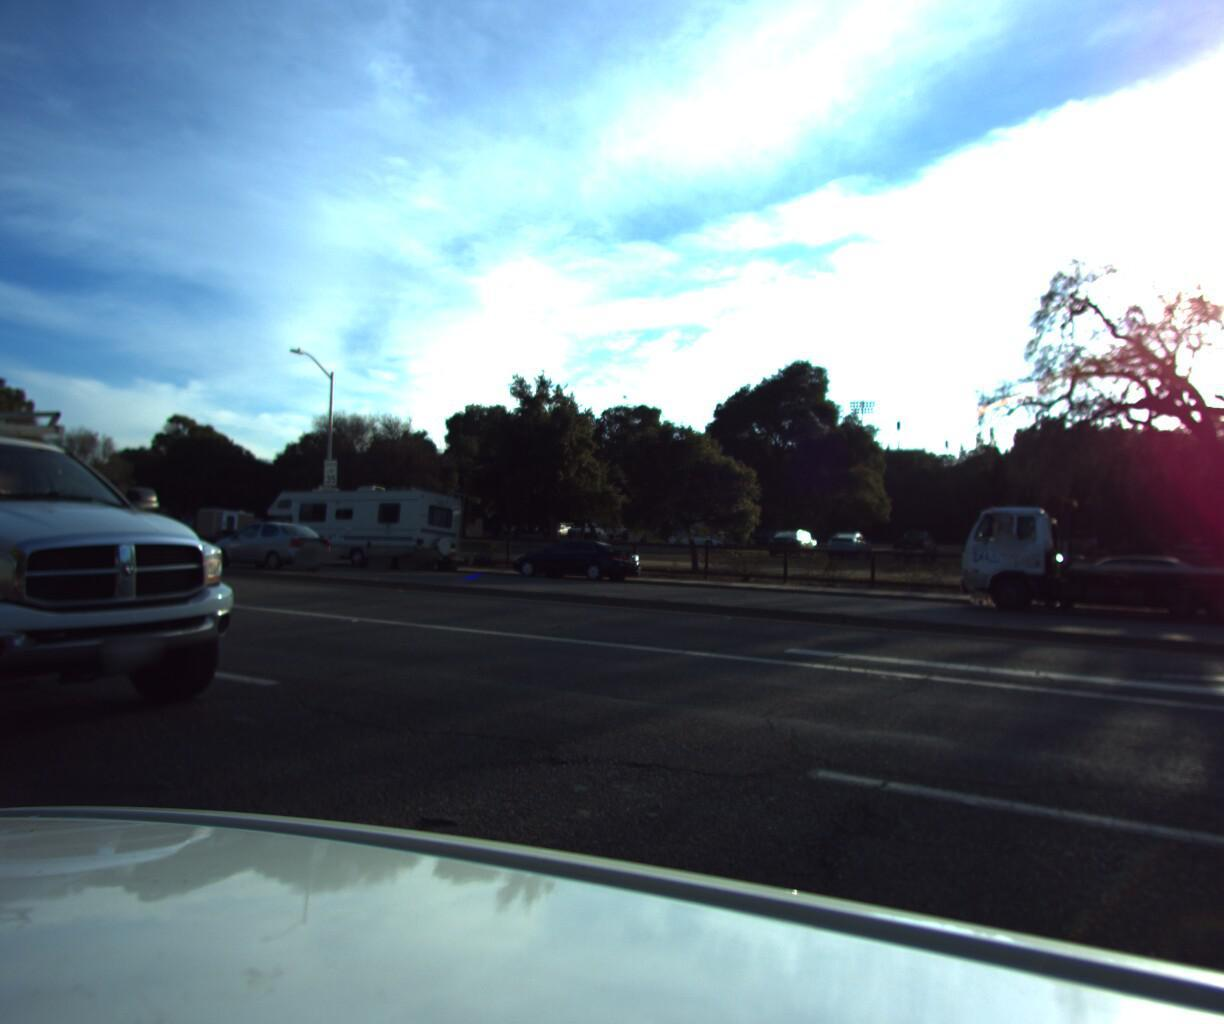car: (0, 345, 297, 804), (1041, 542, 1224, 623), (190, 513, 336, 570), (505, 529, 642, 582), (152, 500, 278, 557)
other_vehicle: (253, 476, 471, 573)
truck: (942, 494, 1224, 634)
